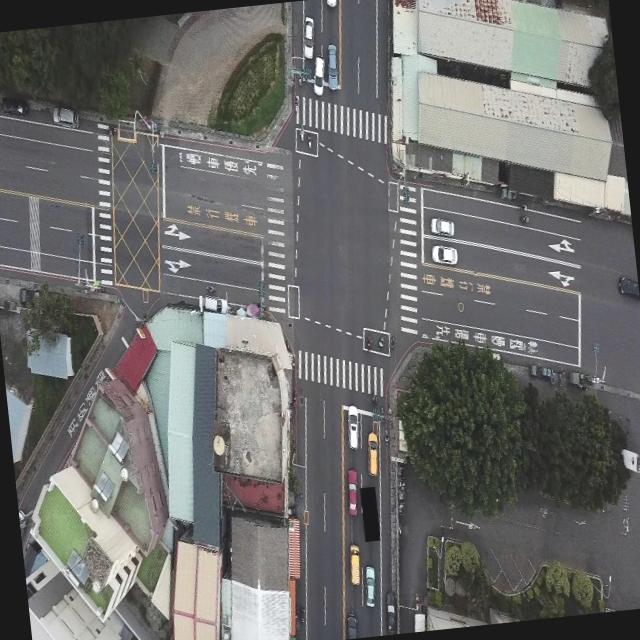bike: (202, 276, 218, 300), (102, 122, 118, 138), (517, 211, 532, 228), (388, 332, 400, 353), (298, 121, 306, 145), (375, 335, 385, 354), (292, 93, 301, 112), (306, 130, 314, 150), (364, 333, 372, 352), (370, 390, 378, 408), (382, 426, 390, 444)
car: (320, 41, 344, 98), (358, 562, 380, 608), (366, 425, 384, 479), (345, 402, 362, 453), (300, 12, 318, 60), (346, 542, 364, 588), (615, 272, 640, 304), (428, 212, 456, 240), (429, 241, 458, 268), (344, 466, 359, 517), (52, 104, 78, 130), (311, 52, 326, 97), (384, 589, 398, 633), (198, 292, 224, 314), (343, 610, 359, 639), (323, 0, 338, 8)
